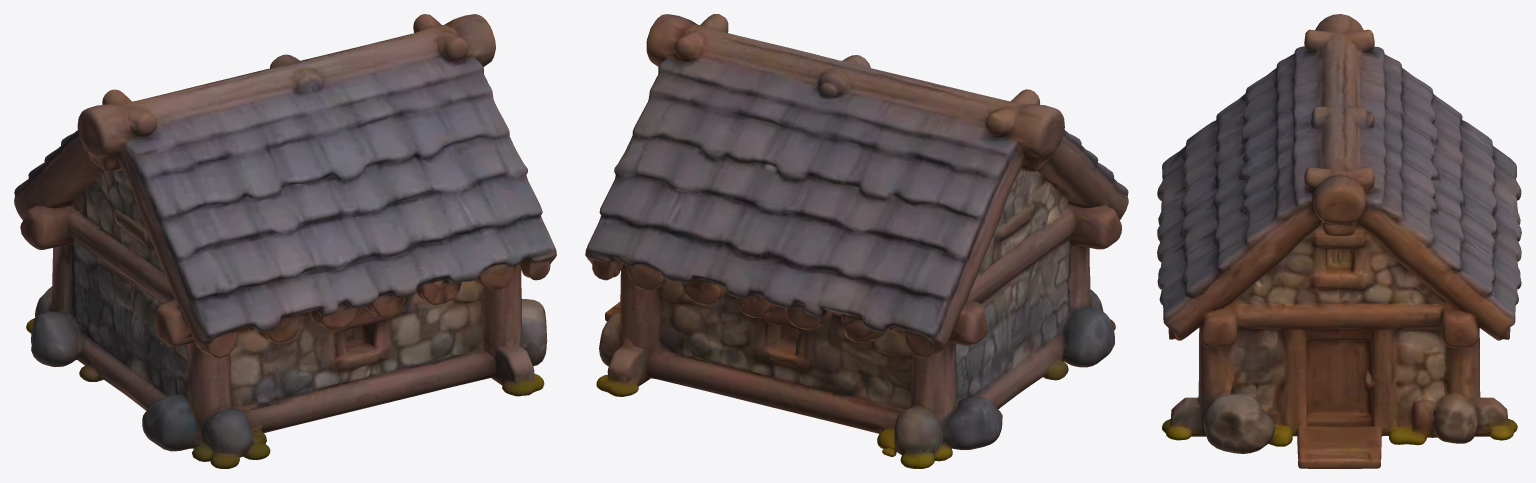
File: cottage_iron.glb
3 renders of one model, left to right at view 1: azimuth 30°, elevation 25°; view 2: azimuth 150°, elevation 25°; view 3: azimuth 270°, elevation 25°, orthographic. The views are drawn at different scales.
Parts seen in each view (by area): view 1: tripo_node_fbca6554-7f7e-4f03-af9b-52341b3de5d8; view 2: tripo_node_fbca6554-7f7e-4f03-af9b-52341b3de5d8; view 3: tripo_node_fbca6554-7f7e-4f03-af9b-52341b3de5d8.
Boxes of the visible parts, left/top/right/bottom form: tripo_node_fbca6554-7f7e-4f03-af9b-52341b3de5d8: left=14, top=14, right=556, bottom=468; tripo_node_fbca6554-7f7e-4f03-af9b-52341b3de5d8: left=585, top=14, right=1128, bottom=468; tripo_node_fbca6554-7f7e-4f03-af9b-52341b3de5d8: left=1157, top=14, right=1521, bottom=468.
Bounding box in the file's own units: 0.9482 × 0.6377 × 0.7763.
Materials: 1 (1 with a texture image).
